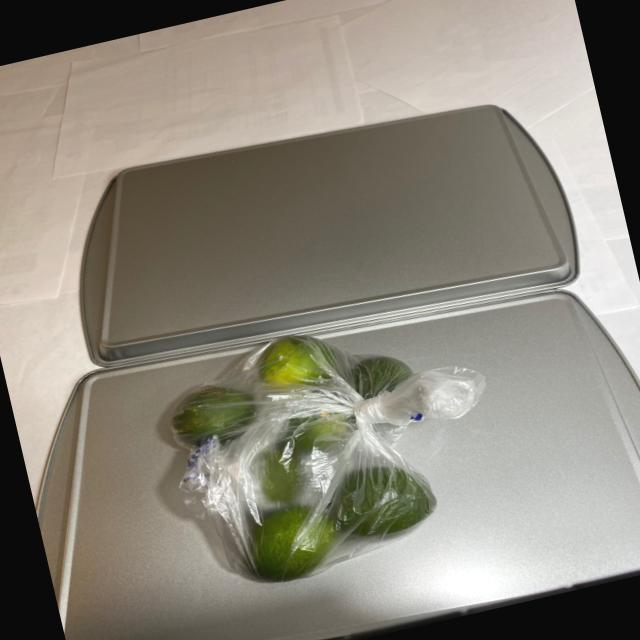lemon: (147, 308, 463, 594)
